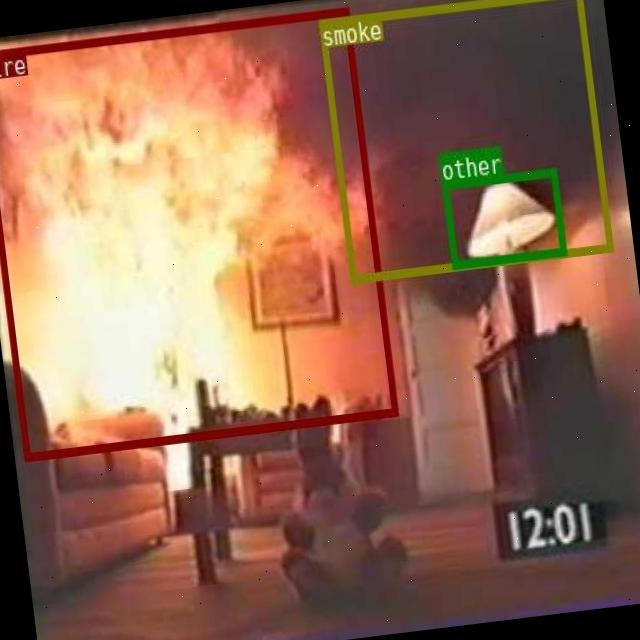fire: (0, 5, 397, 459)
smoke: (318, 0, 611, 282)
